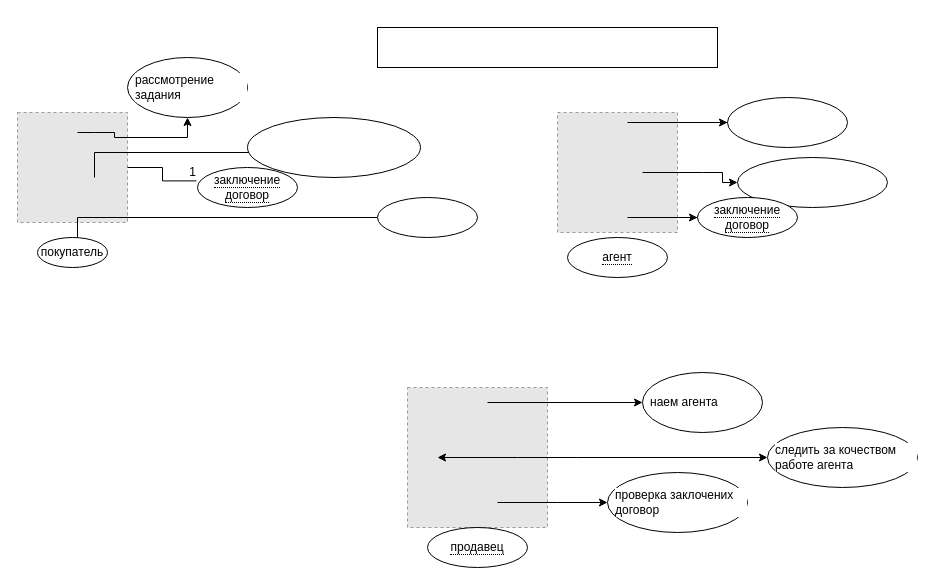
Some shapes in this 935 by 585 pixel diagram are drawn without their labels. Grey dashed boxes stand in for pictures. Each missing label, with the centre of its shape:
"дают возможность посмотрь дом" goes at [812,182].
"купли продажи здания" goes at [547,47].
"оплата" goes at [427,217].
"посмотрь выброго здания" goes at [333,147].
"предлогает зданию" goes at [787,122].
